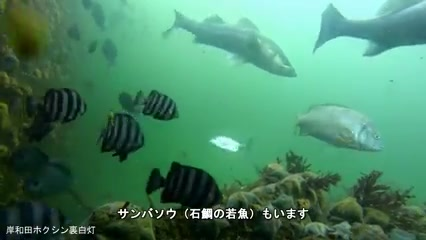ishidai: (156, 157, 229, 205), (95, 109, 149, 163), (29, 88, 92, 130), (136, 86, 181, 130)
suzuki: (163, 5, 302, 88)
